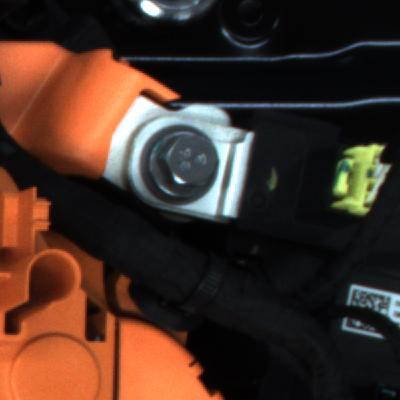nut_b: (148, 126, 224, 214)
